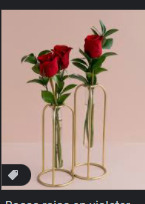RedRose: (82, 31, 106, 61), (33, 50, 59, 76), (51, 43, 73, 72)
